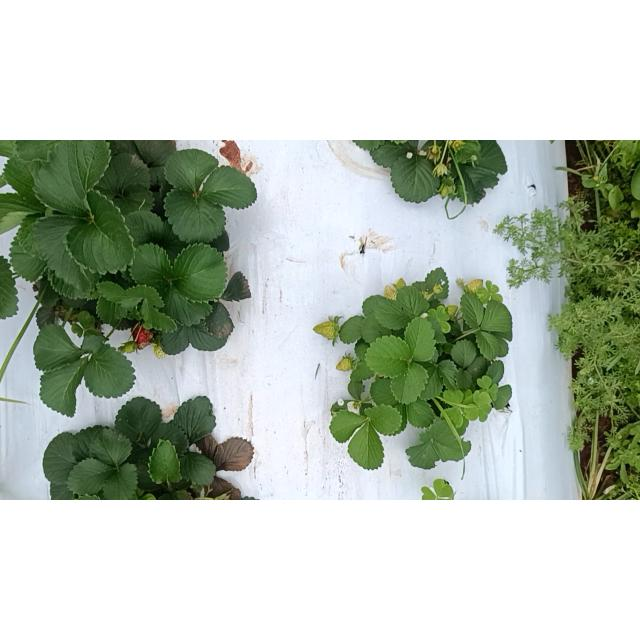no-maduro: (312, 320, 340, 340), (335, 353, 355, 371), (464, 278, 484, 294), (152, 341, 166, 359), (384, 284, 398, 300), (122, 340, 136, 354), (445, 304, 459, 316)
